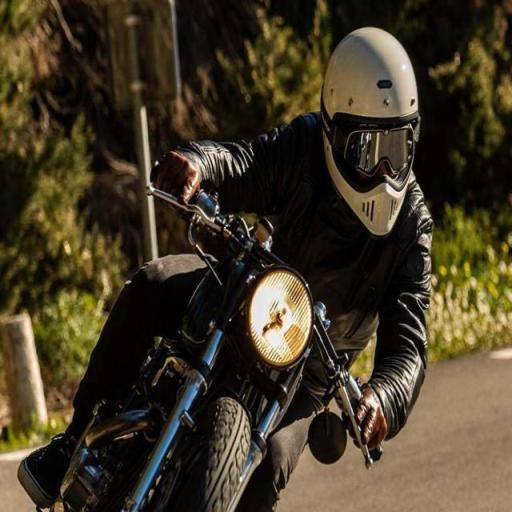Helmet: (322, 28, 419, 235)
Motor: (52, 152, 402, 512)
